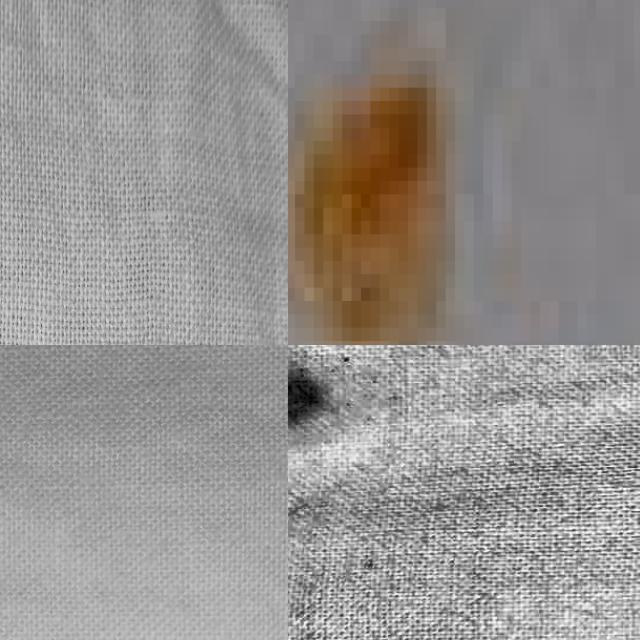Thread_other: (288, 0, 615, 345), (288, 345, 373, 472)
